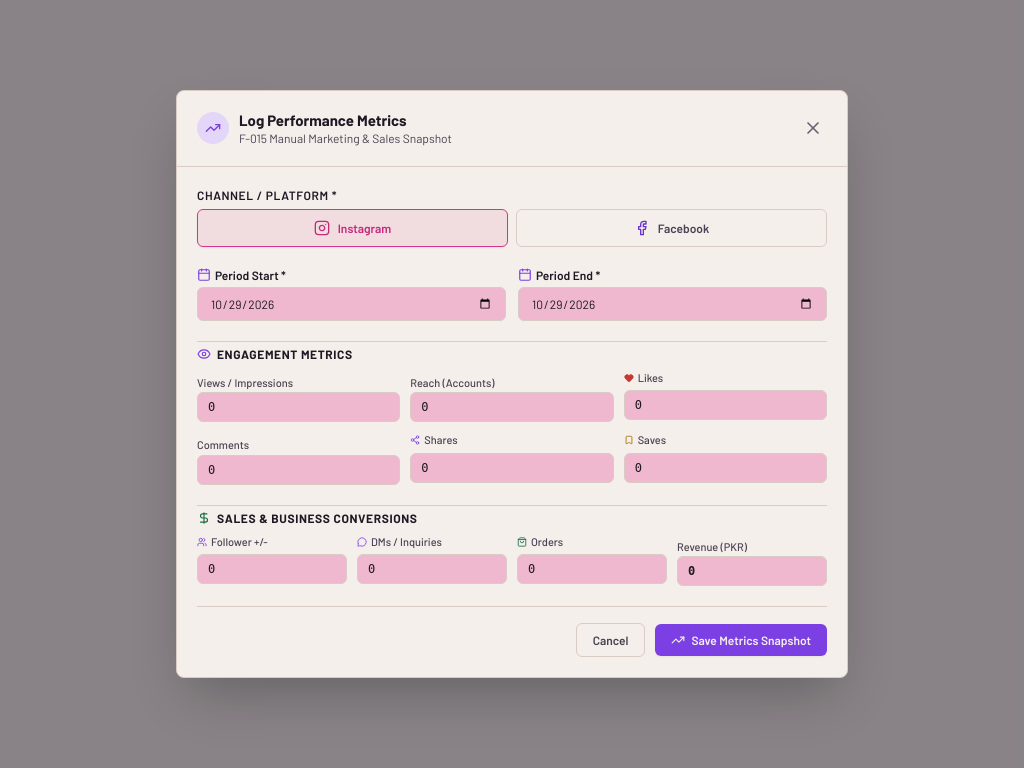
it: MetricsEntryModal (Task 48 / F-015) › handles submission API error gracefully
The image size is (1024, 768).
What coordinates should you click on to do the following:
click the button "Save Metrics Snapshot"
I would click on:
 (741, 640)
Its box is x1=656 y1=624 x2=827 y2=656.
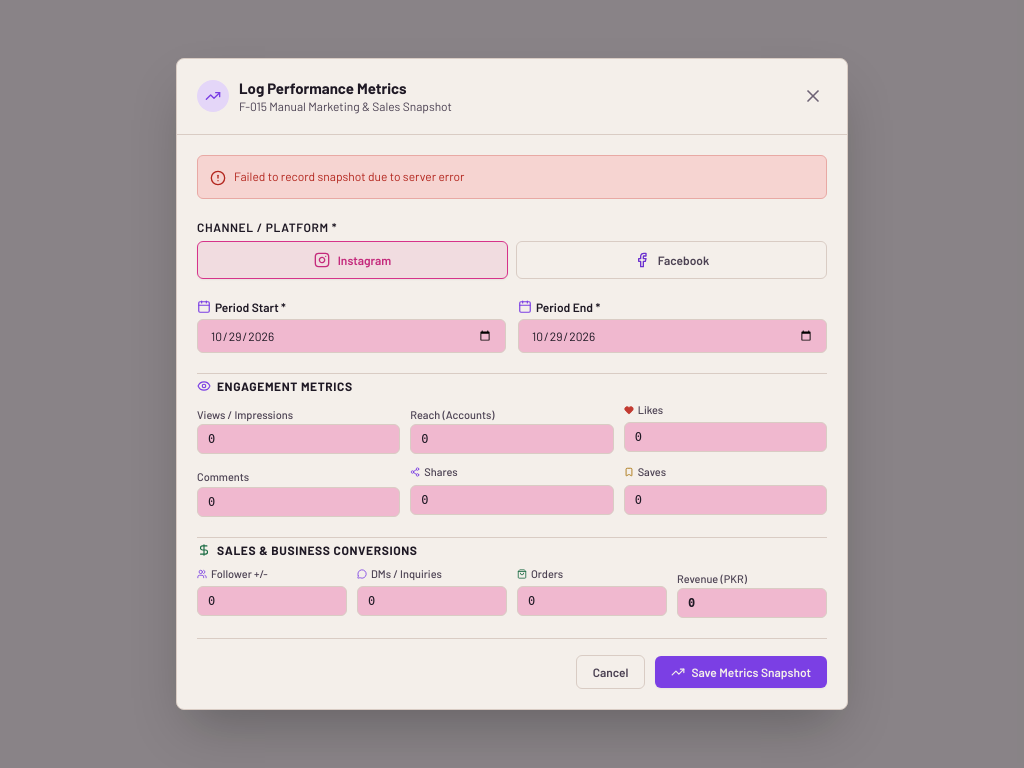
Now the text "Failed to record snapshot due to server error" is shown, box x1=234 y1=168 x2=464 y2=184
